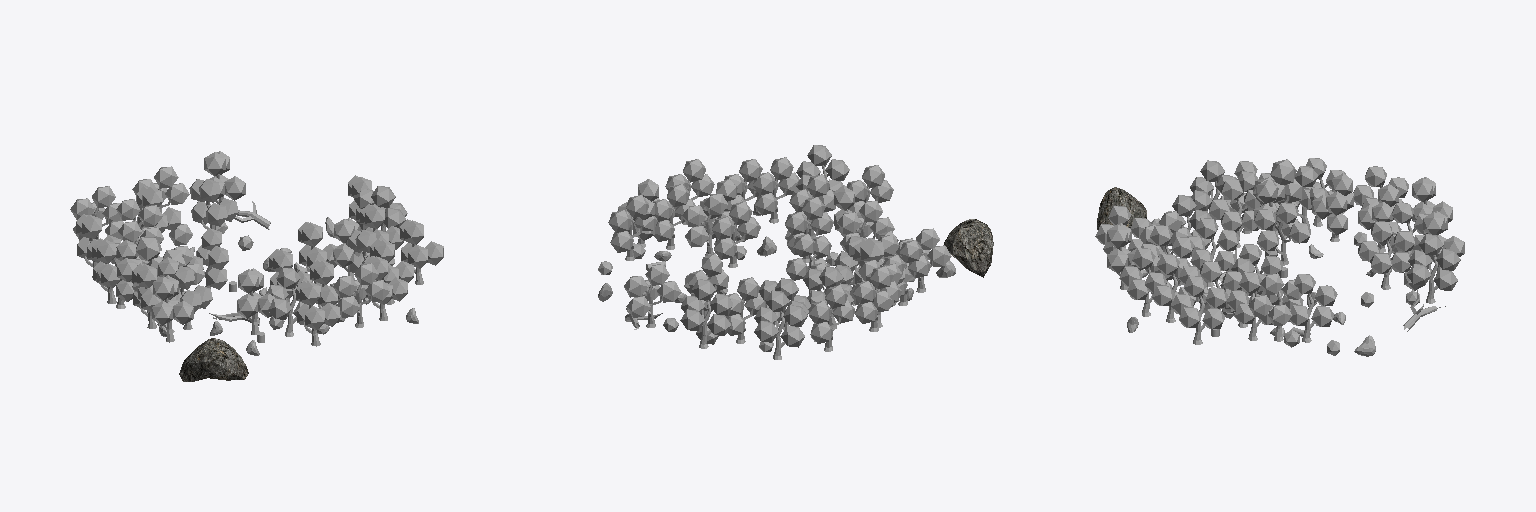
3 views of the same model, side by side, from view 1: azimuth 30°, elevation 25°; view 2: azimuth 150°, elevation 25°; view 3: azimuth 270°, elevation 25° (orthographic).
Parts seen in each view (by area): view 1: Icosahedron154; view 2: Icosahedron154; view 3: Icosahedron154.
Boxes of the visible parts, x1=… form: Icosahedron154: x1=179, y1=338, x2=248, y2=381; Icosahedron154: x1=944, y1=219, x2=993, y2=277; Icosahedron154: x1=1097, y1=187, x2=1146, y2=229.
Size of the model in its own units: 40.97 by 11.46 by 44.05.
Materials: 4 (1 with a texture image).